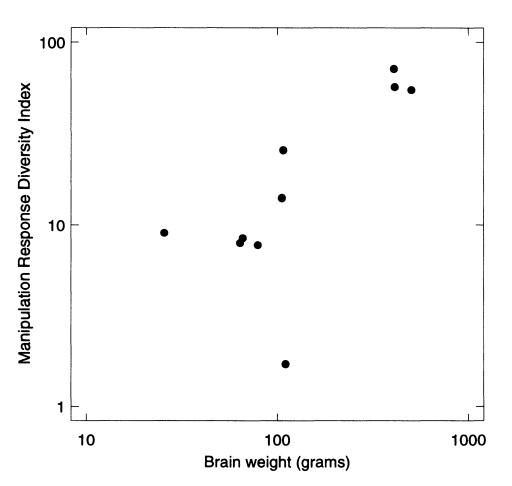axis: (61, 24, 81, 426), (62, 412, 489, 427)
point: (278, 358, 295, 371), (275, 191, 290, 205), (276, 143, 290, 156), (388, 63, 401, 74), (389, 80, 400, 93), (159, 228, 170, 240), (406, 83, 416, 95), (253, 240, 263, 251), (237, 233, 248, 242), (234, 240, 245, 248)
